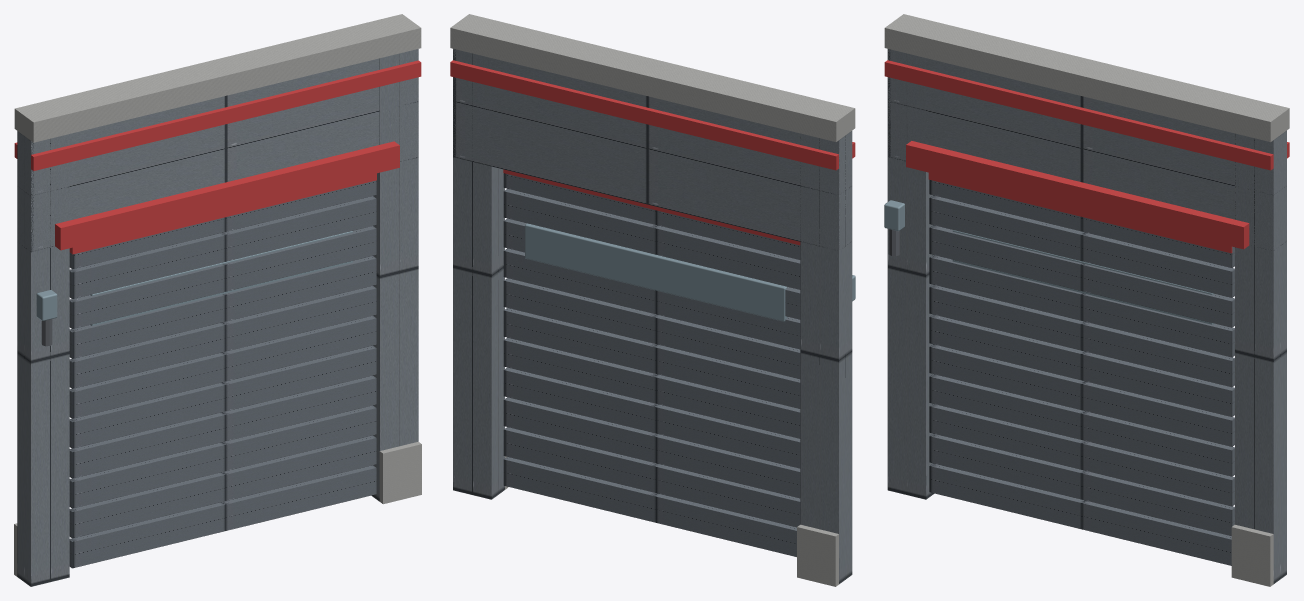
The model's file is fire-and-emergency-services-appliance-bay-door-module-cc8bf8d3__29883.glb.
The picture shows the model from 3 angles, left to right: view 1: azimuth 30°, elevation 25°; view 2: azimuth 150°, elevation 25°; view 3: azimuth 330°, elevation 25°; orthographic projection.
Parts seen in each view (by area): view 1: bay-door/tread, appliance-bay-door-module, bay-door/red, bay-door/glass; view 2: appliance-bay-door-module, bay-door/tread, bay-door/glass, bay-door/red; view 3: bay-door/tread, appliance-bay-door-module, bay-door/red, bay-door/glass.
Boxes of the visible parts, box(x1,y1,x2,y2) form: bay-door/tread: box(69, 180, 376, 568); appliance-bay-door-module: box(14, 14, 421, 586); bay-door/red: box(69, 173, 376, 254); bay-door/glass: box(90, 231, 352, 325); appliance-bay-door-module: box(450, 14, 855, 586); bay-door/tread: box(503, 173, 800, 556); bay-door/glass: box(525, 223, 787, 321); bay-door/red: box(503, 169, 800, 245); bay-door/tread: box(929, 179, 1234, 565); appliance-bay-door-module: box(884, 14, 1289, 586); bay-door/red: box(928, 172, 1232, 253); bay-door/glass: box(952, 230, 1214, 324).
Size of the model in its own units: 4 by 4.6 by 0.44.
6 materials, 3 textured.
